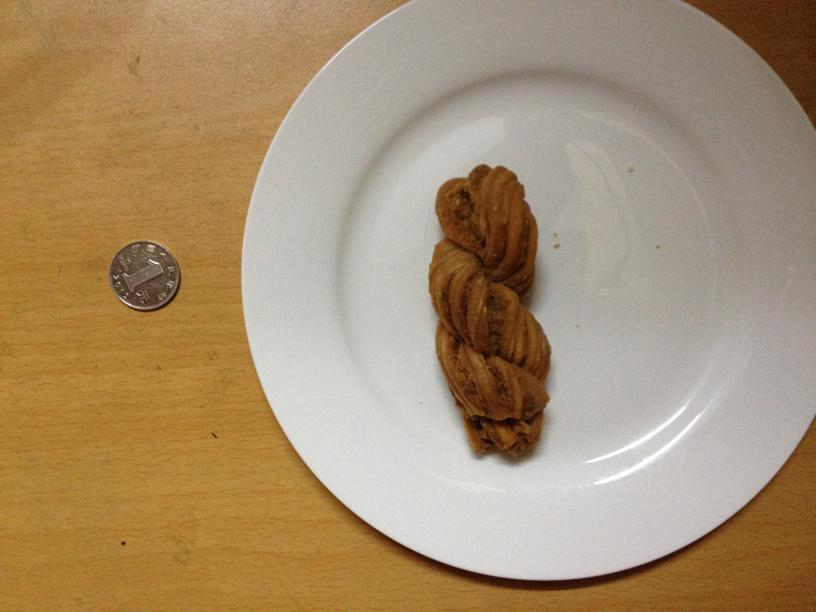coin: (109, 239, 180, 310)
fired_dough_twist: (434, 165, 549, 459)
